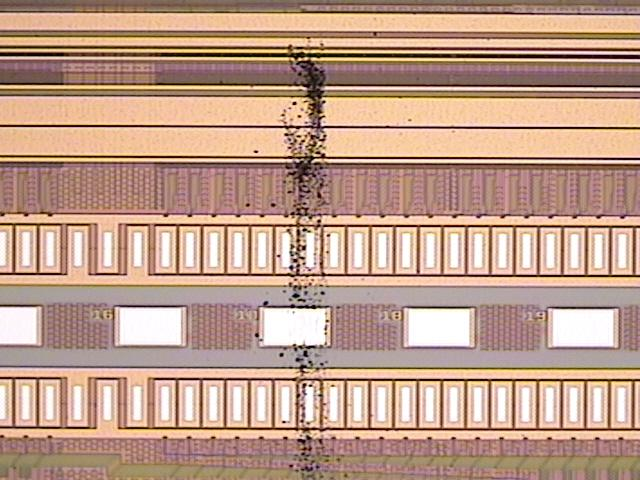PO CONTAMINATION: (255, 28, 351, 480)
